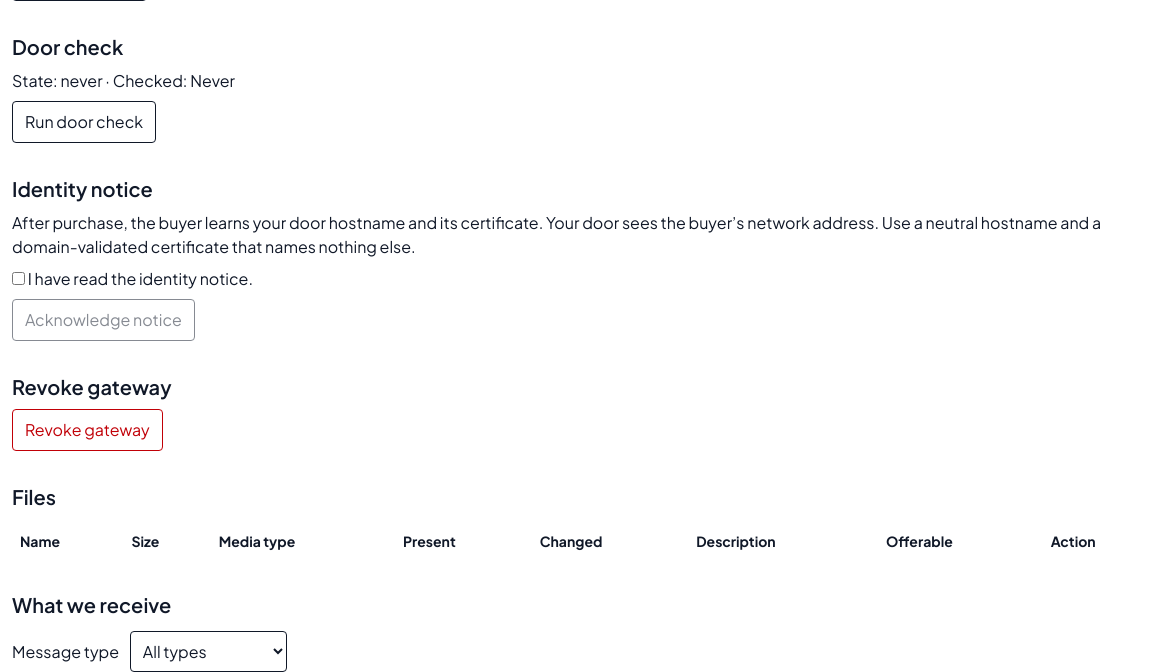
ordinary sequential filtering and pagination still render the requested messages
(page scrolled)
Select "inventory" in the dropdown labelled "Message type" at (208, 652), box [130, 631, 287, 671]
(page scrolled)
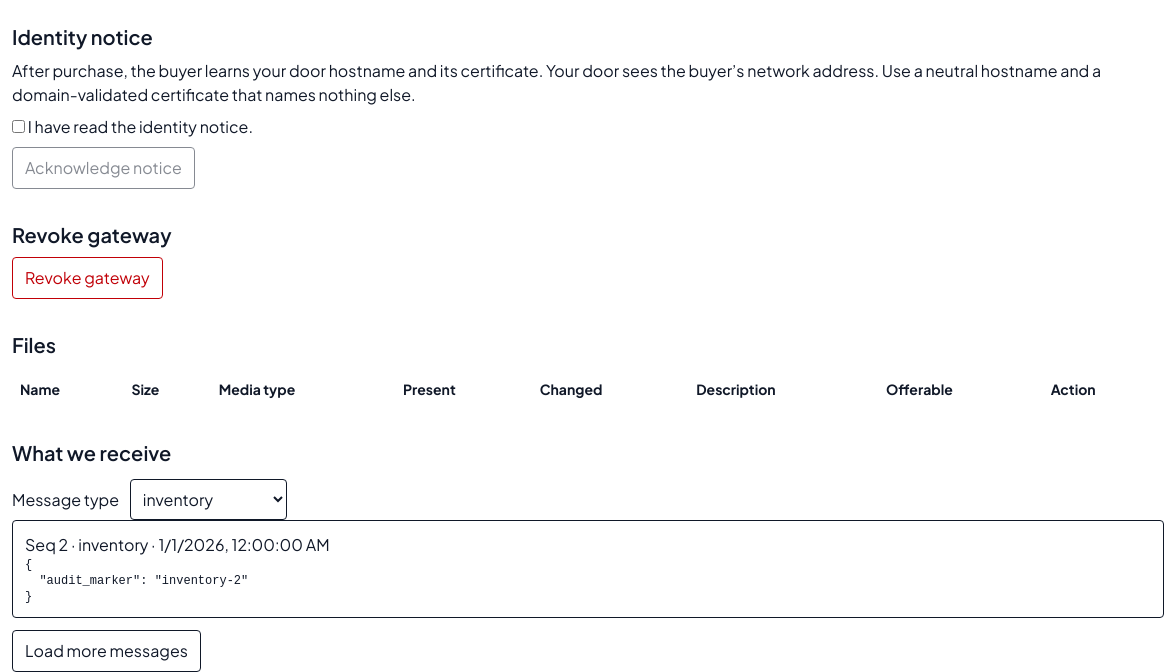
Expected: the text "{ \"audit_marker\": \"inventory-2\" }" is shown, [25, 558, 248, 604]
Click the button "Load more messages" at (106, 651), box [12, 630, 201, 671]
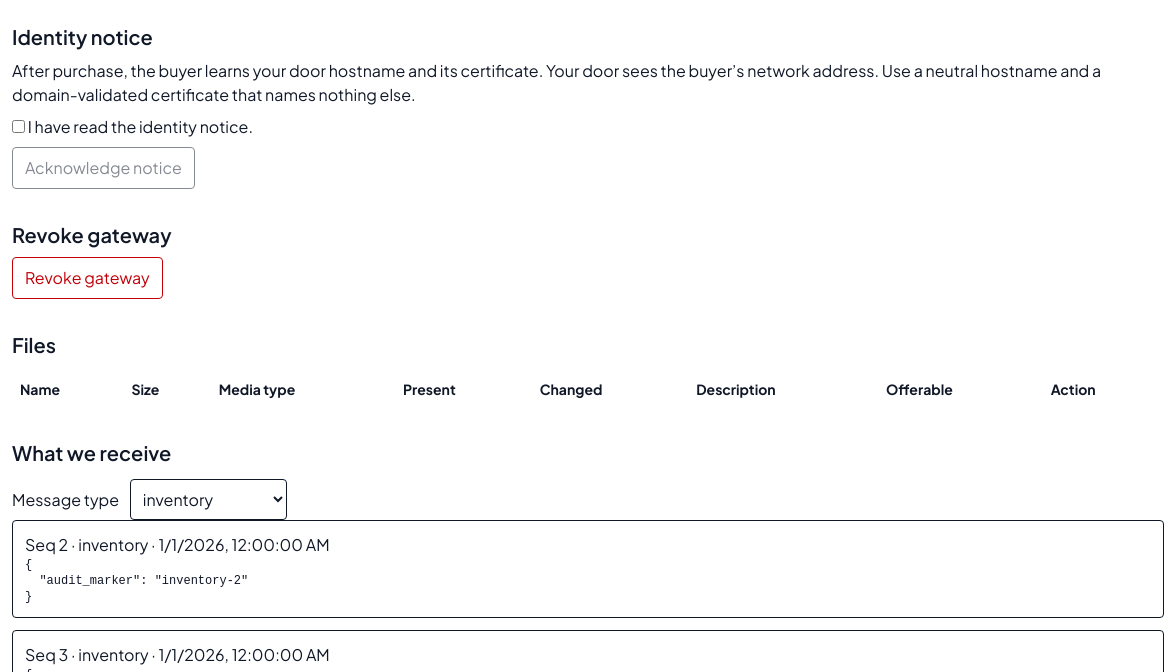
Expected: the text "{ \"audit_marker\": \"inventory-2\" }" is shown, [25, 558, 248, 604]
Expected: the button "Load more messages" is gone
